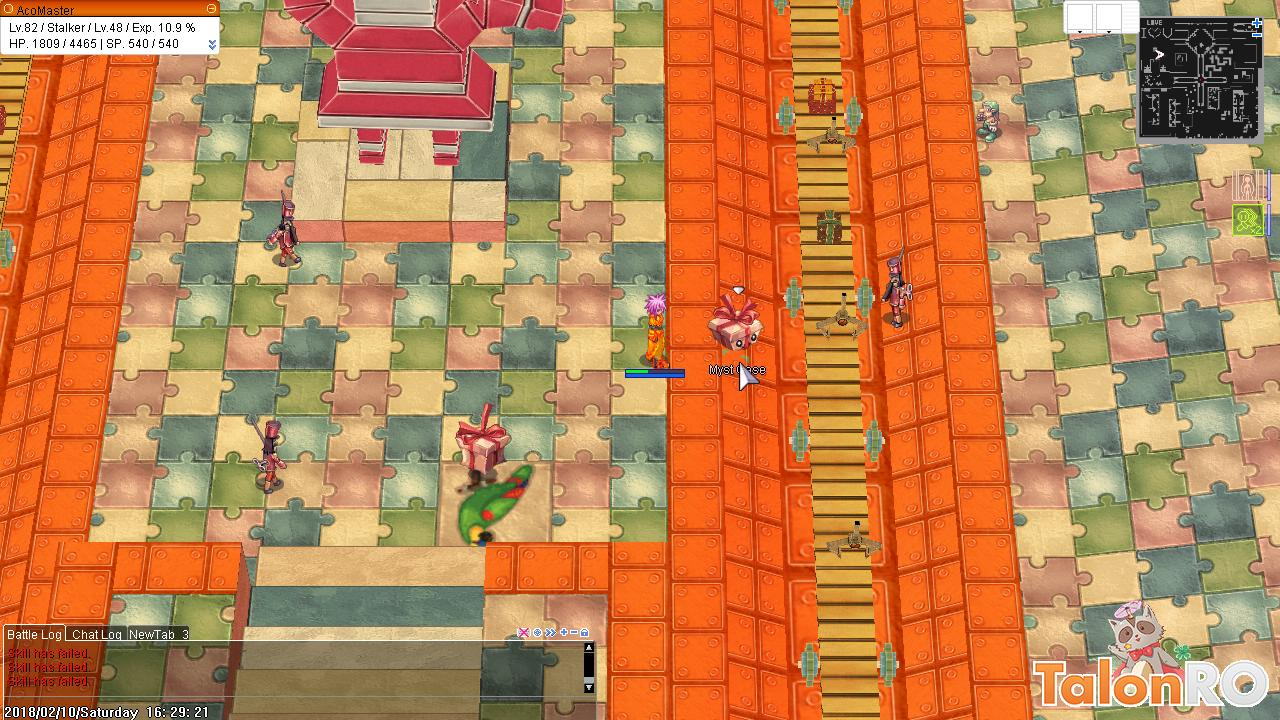mob: (238, 410, 296, 503), (261, 177, 309, 275), (874, 243, 917, 333)
myst_case: (455, 398, 509, 481), (705, 289, 769, 357)
